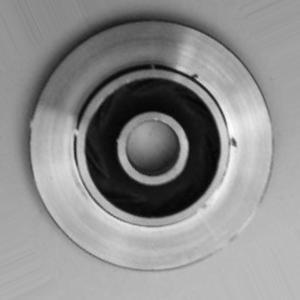defect: (186, 68, 242, 157)
